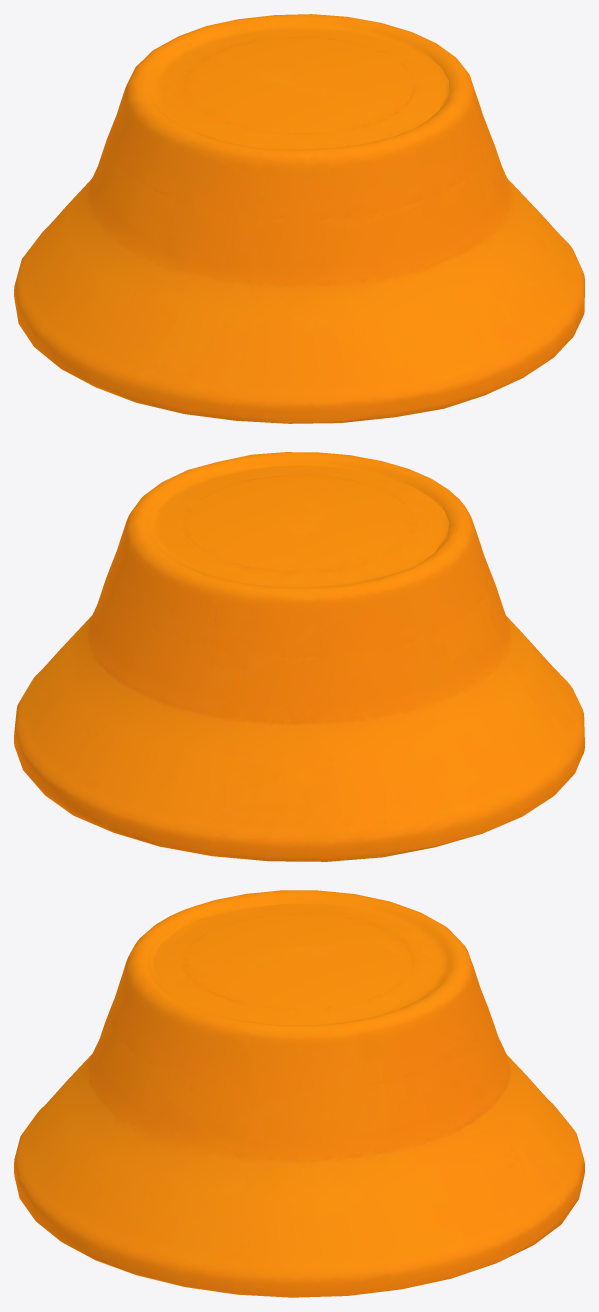
File: neon-orange-lampshade.glb
3 renders of one model, top to bottom at view 1: azimuth 30°, elevation 25°; view 2: azimuth 150°, elevation 25°; view 3: azimuth 270°, elevation 25°, orthographic.
Parts seen in each view (by area): view 1: Mesh0; view 2: Mesh0; view 3: Mesh0.
Part boxes in pixels (bbox=[...]): Mesh0: bbox=[14, 14, 584, 423]; Mesh0: bbox=[14, 452, 584, 861]; Mesh0: bbox=[14, 890, 584, 1297].
Size of the model in its own units: 1.9 by 0.821 by 1.9.
Materials: 1 (1 with a texture image).
